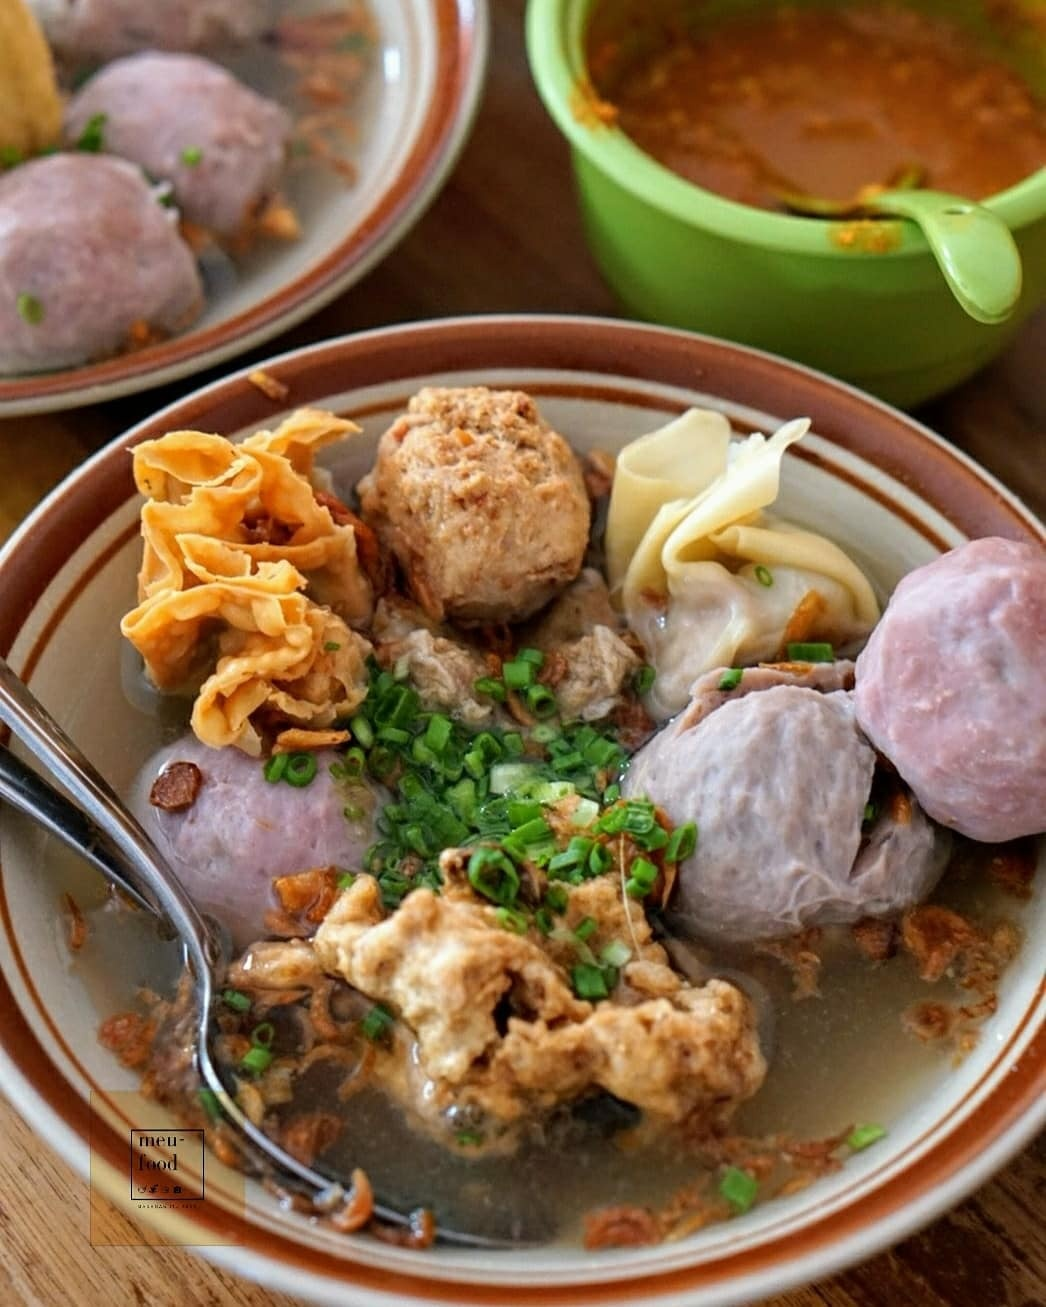bakso_malang: (120, 384, 1046, 1153)
